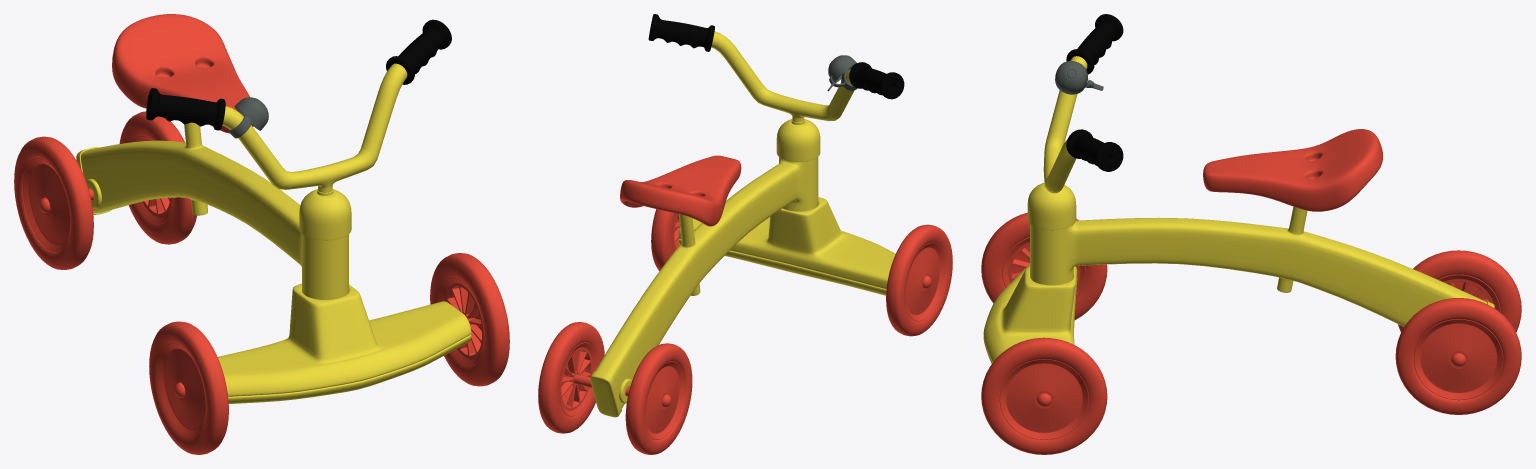
The model's file is KidCycle.fbx.
3 views of the same model, side by side, from view 1: azimuth 30°, elevation 25°; view 2: azimuth 150°, elevation 25°; view 3: azimuth 270°, elevation 25° (orthographic). The views are drawn at different scales.
Parts seen in each view (by area): view 1: Body, Wheels, Saddle, HandleBar, HandleGrip, Campaign; view 2: Body, Wheels, Saddle, HandleBar, HandleGrip, Campaign; view 3: Wheels, Body, Saddle, HandleBar, HandleGrip, Campaign.
Part boxes in pixels (<box>): Body: <box>76,122,471,403</box>; Wheels: <box>14,111,509,454</box>; Saddle: <box>112,14,253,133</box>; HandleBar: <box>222,63,407,240</box>; HandleGrip: <box>146,19,451,130</box>; Campaign: <box>228,97,268,138</box>; Body: <box>590,157,895,417</box>; Wheels: <box>538,209,952,454</box>; Saddle: <box>620,155,741,226</box>; HandleBar: <box>711,31,854,161</box>; HandleGrip: <box>648,14,904,99</box>; Campaign: <box>827,55,857,91</box>; Wheels: <box>981,212,1521,454</box>; Body: <box>983,206,1494,363</box>; Saddle: <box>1203,129,1383,211</box>; HandleBar: <box>1027,56,1087,230</box>; HandleGrip: <box>1066,14,1123,171</box>; Campaign: <box>1055,61,1103,94</box>.
Bounding box in the file's own units: 125 × 130 × 205.
